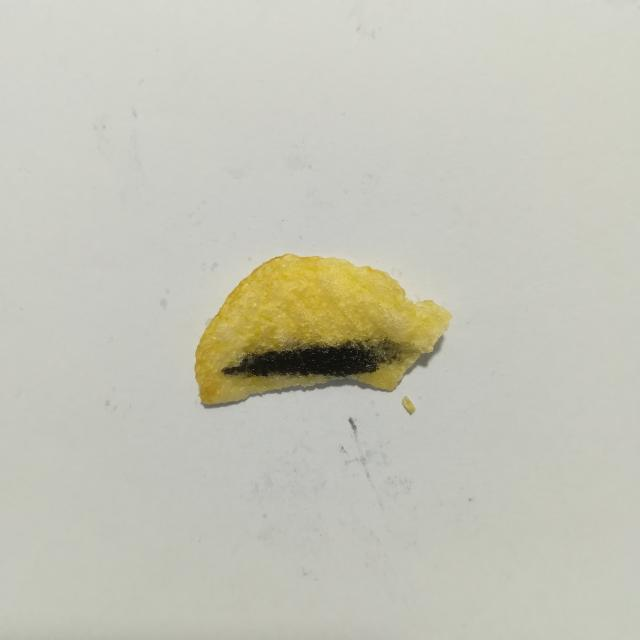chip: (195, 254, 451, 404)
damaged: (222, 343, 387, 377)
semi-damaged: (247, 338, 405, 365)
